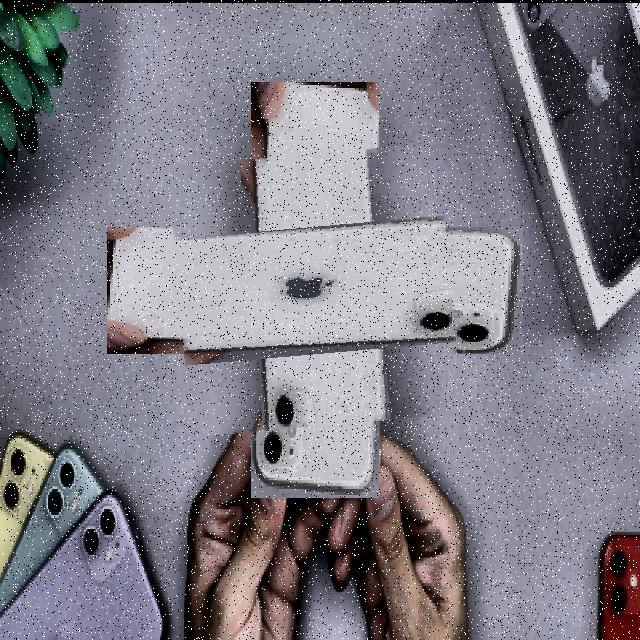Phone: (174, 148, 456, 432)
